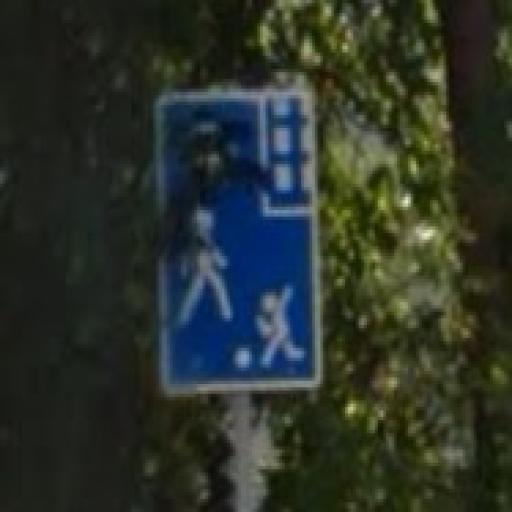traffic_sign: (152, 90, 322, 395)
